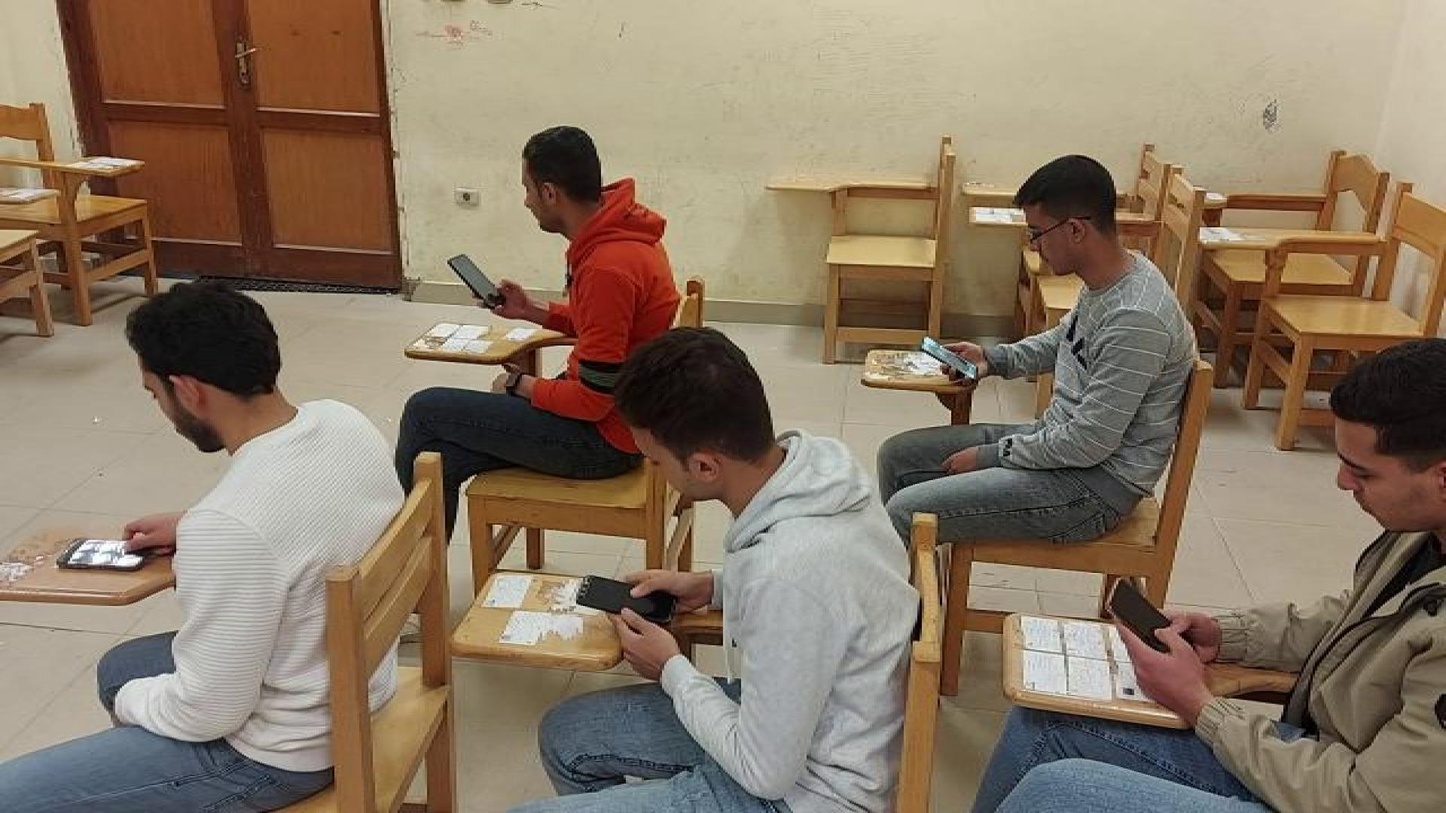phone: (1104, 574, 1199, 659), (576, 569, 680, 629), (58, 533, 148, 575), (443, 251, 508, 309), (920, 332, 978, 385)
